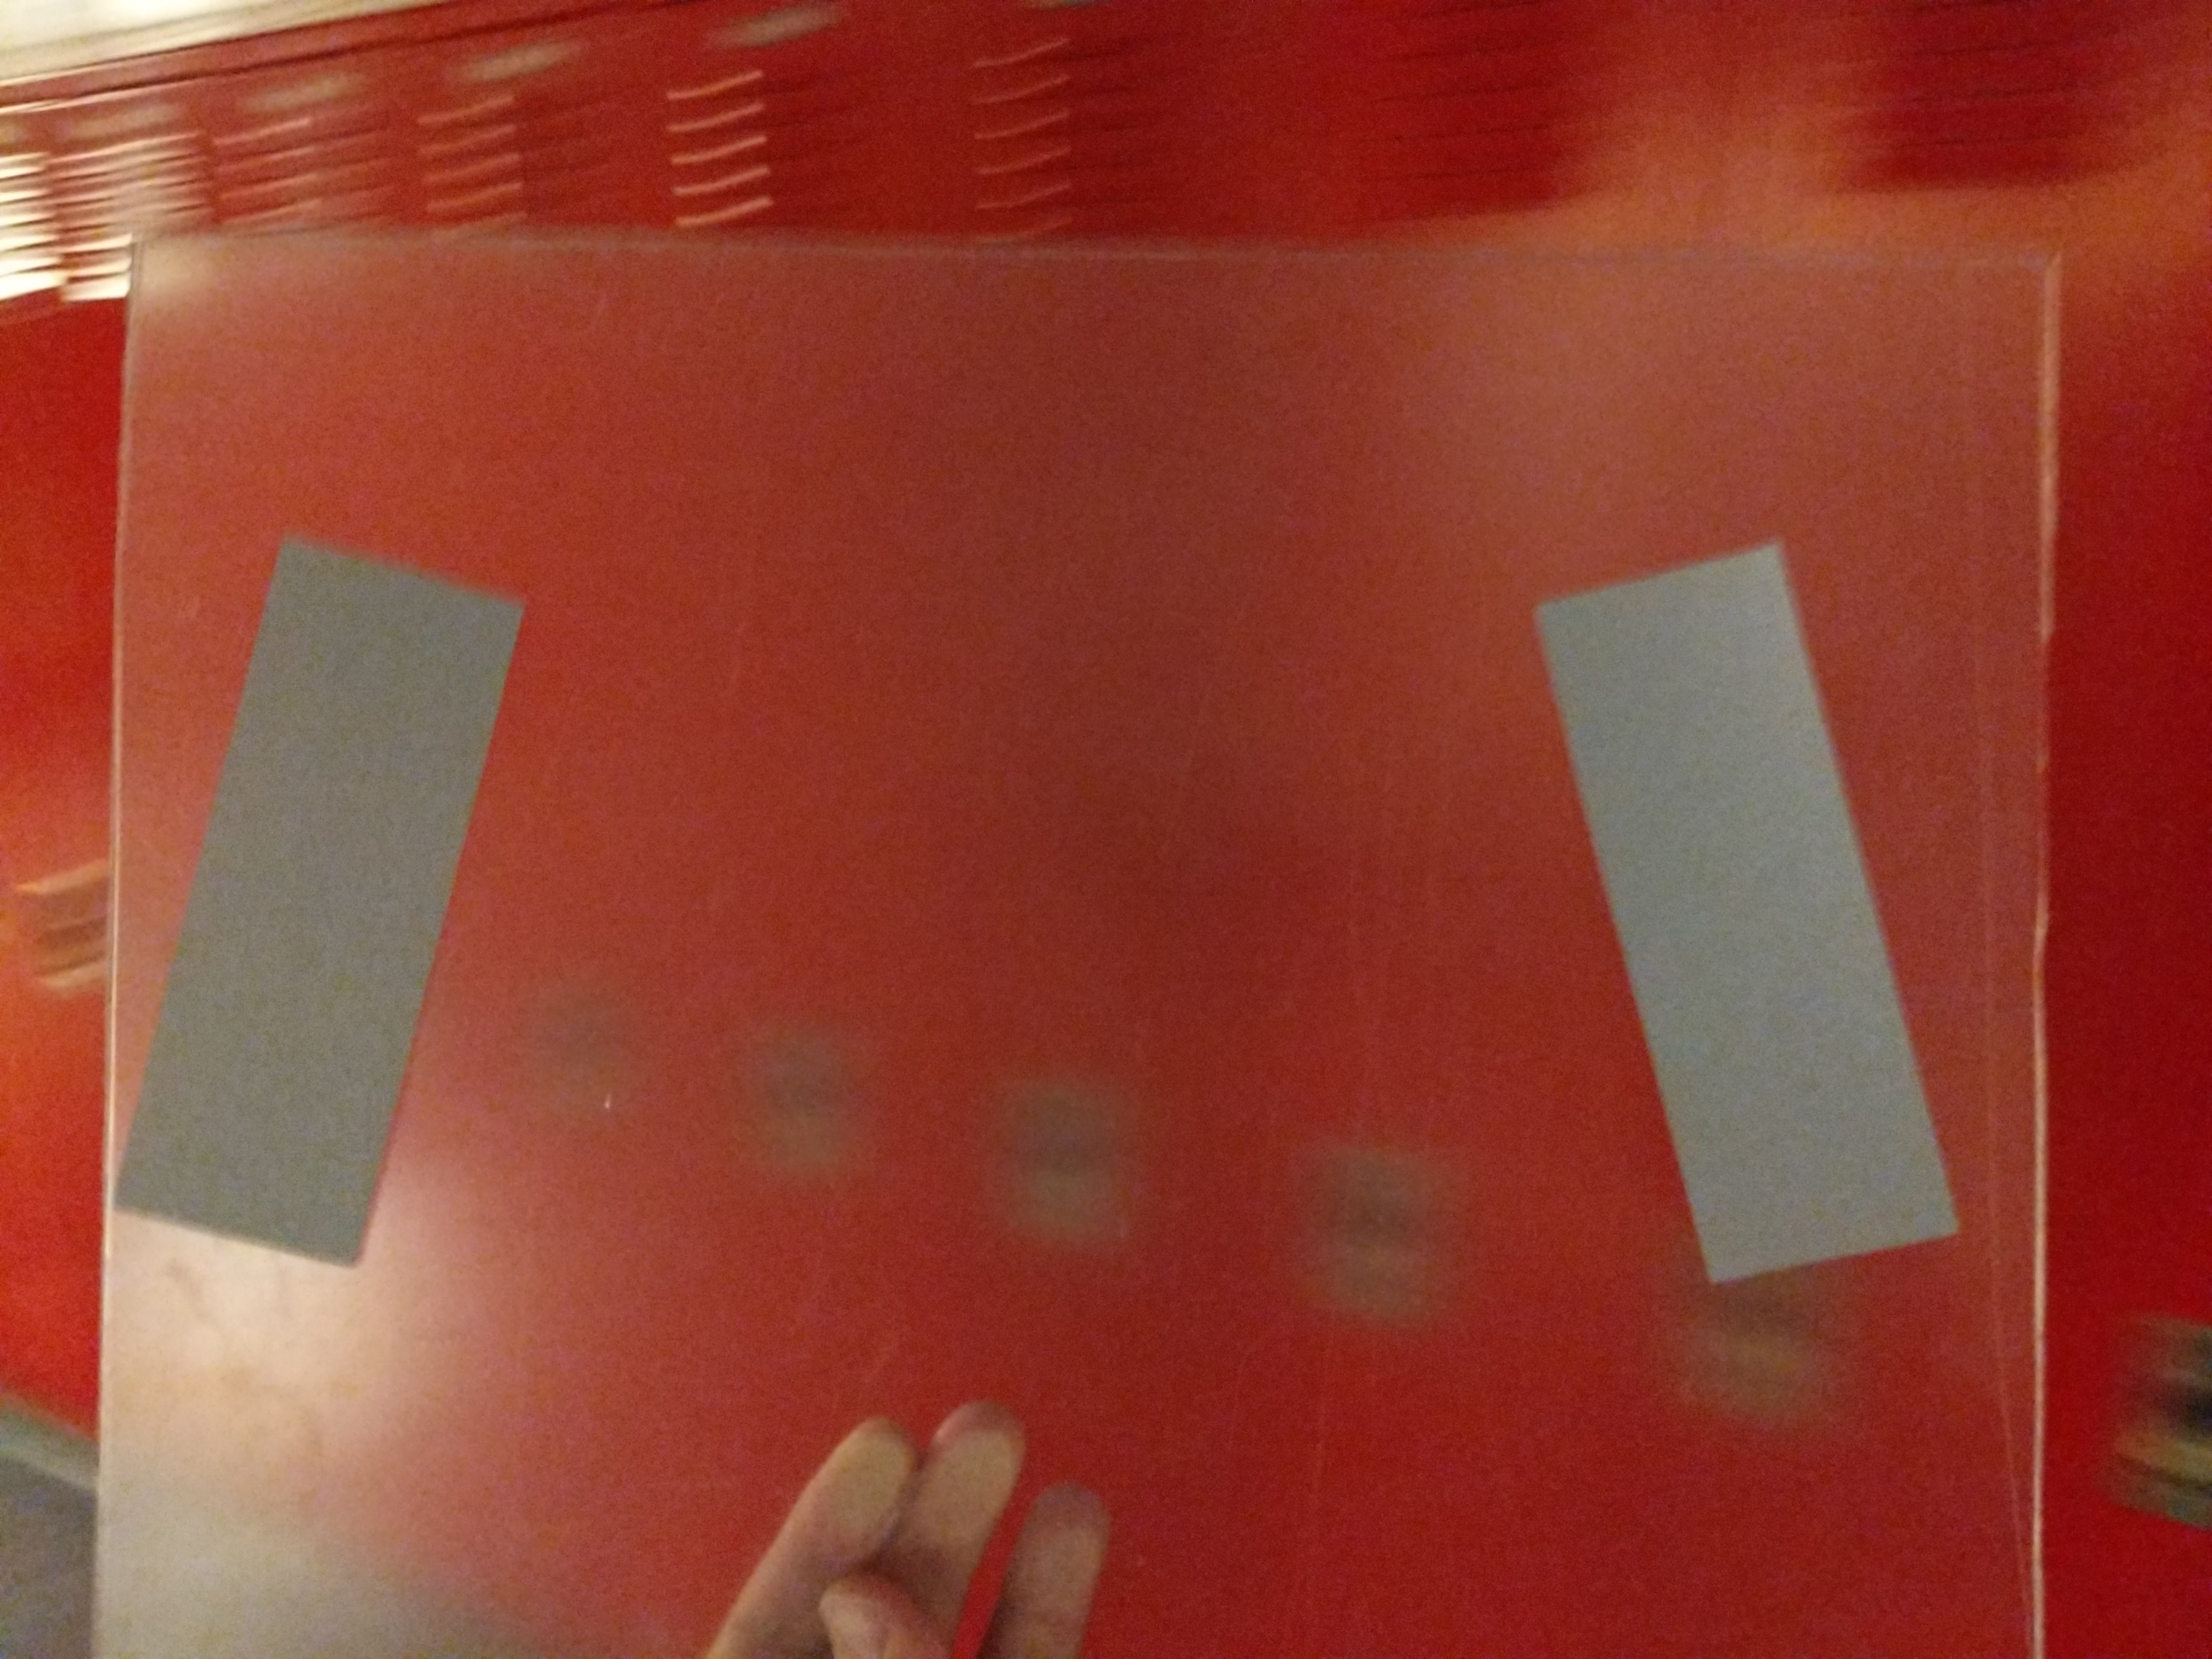vision_target: (82, 523, 1977, 1295)
